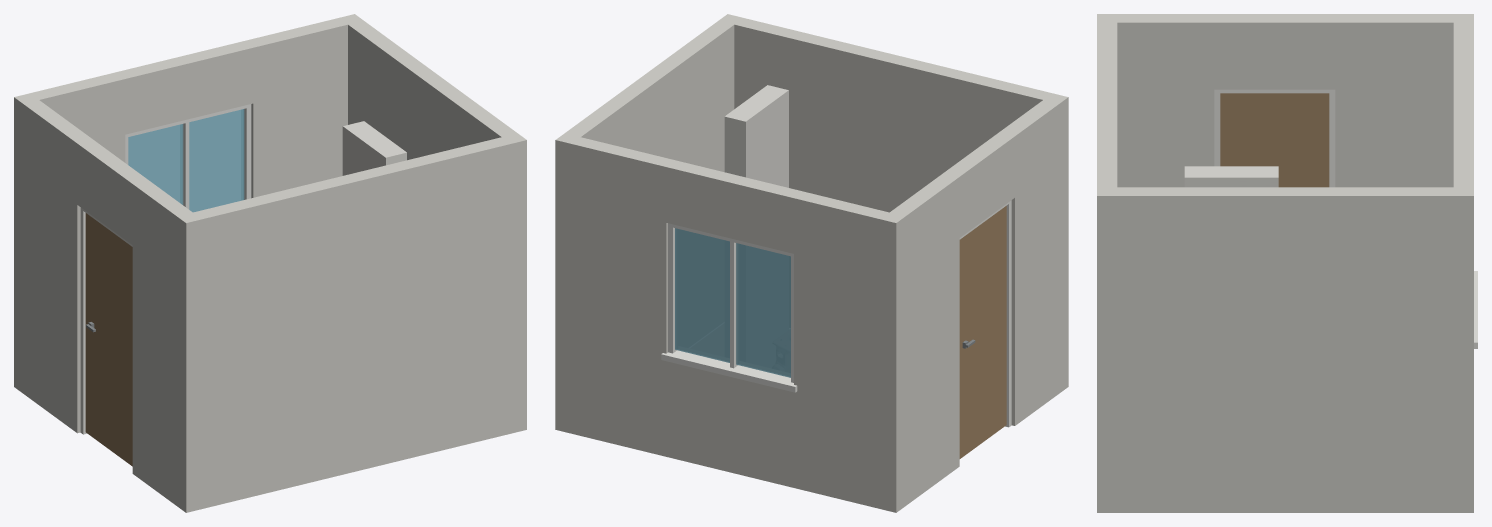
File: layoutgpt.glb
3 renders of one model, left to right at view 1: azimuth 30°, elevation 25°; view 2: azimuth 150°, elevation 25°; view 3: azimuth 270°, elevation 25°, orthographic. The views are drawn at different scales.
Parts seen in each view (by area): view 1: wall|scenesmith_059__R00|0, wall|scenesmith_059__R00|2, wall|scenesmith_059__R00|1, wall|scenesmith_059__R00|3, wall|scenesmith_059__R00|2 Door 0 | wood leaf, wall|scenesmith_059__R00|1 Window 0 | glazing, scenesmith_059__R00_2 | structural enclosure, wall|scenesmith_059__R00|1 Window 0 | jamb, wall|scenesmith_059__R00|2 Door 0 | jamb; view 2: wall|scenesmith_059__R00|1, wall|scenesmith_059__R00|2, wall|scenesmith_059__R00|0, wall|scenesmith_059__R00|3, wall|scenesmith_059__R00|1 Window 0 | glazing, wall|scenesmith_059__R00|2 Door 0 | wood leaf, scenesmith_059__R00_2 | structural enclosure, wall|scenesmith_059__R00|1 Window 0 | jamb, wall|scenesmith_059__R00|2 Door 0 | jamb; view 3: wall|scenesmith_059__R00|3, wall|scenesmith_059__R00|2, wall|scenesmith_059__R00|0, wall|scenesmith_059__R00|2 Door 0 | wood leaf, wall|scenesmith_059__R00|1, scenesmith_059__R00_2 | structural enclosure, wall|scenesmith_059__R00|2 Door 0 | jamb.
Part boxes in pixels (<box>): wall|scenesmith_059__R00|0: <box>177,133,526,512</box>; wall|scenesmith_059__R00|2: <box>23,100,201,511</box>; wall|scenesmith_059__R00|1: <box>14,14,363,393</box>; wall|scenesmith_059__R00|3: <box>348,21,517,160</box>; wall|scenesmith_059__R00|2 Door 0 | wood leaf: <box>85,213,132,466</box>; wall|scenesmith_059__R00|1 Window 0 | glazing: <box>128,109,244,212</box>; scenesmith_059__R00_2 | structural enclosure: <box>342,121,406,175</box>; wall|scenesmith_059__R00|1 Window 0 | jamb: <box>125,104,251,209</box>; wall|scenesmith_059__R00|2 Door 0 | jamb: <box>80,207,132,434</box>; wall|scenesmith_059__R00|1: <box>556,133,905,512</box>; wall|scenesmith_059__R00|2: <box>880,93,1067,512</box>; wall|scenesmith_059__R00|0: <box>718,14,1068,393</box>; wall|scenesmith_059__R00|3: <box>555,18,741,433</box>; wall|scenesmith_059__R00|1 Window 0 | glazing: <box>675,228,790,377</box>; wall|scenesmith_059__R00|2 Door 0 | wood leaf: <box>959,206,1006,458</box>; scenesmith_059__R00_2 | structural enclosure: <box>724,85,788,187</box>; wall|scenesmith_059__R00|1 Window 0 | jamb: <box>661,223,797,392</box>; wall|scenesmith_059__R00|2 Door 0 | jamb: <box>959,200,1011,427</box>; wall|scenesmith_059__R00|3: <box>1097,187,1473,512</box>; wall|scenesmith_059__R00|2: <box>1097,14,1453,187</box>; wall|scenesmith_059__R00|0: <box>1097,22,1117,512</box>; wall|scenesmith_059__R00|2 Door 0 | wood leaf: <box>1220,93,1329,187</box>; wall|scenesmith_059__R00|1: <box>1453,14,1473,420</box>; scenesmith_059__R00_2 | structural enclosure: <box>1184,166,1278,187</box>; wall|scenesmith_059__R00|2 Door 0 | jamb: <box>1214,89,1335,187</box>.
Size of the model in its own units: 3.2 by 2.61 by 2.83.
